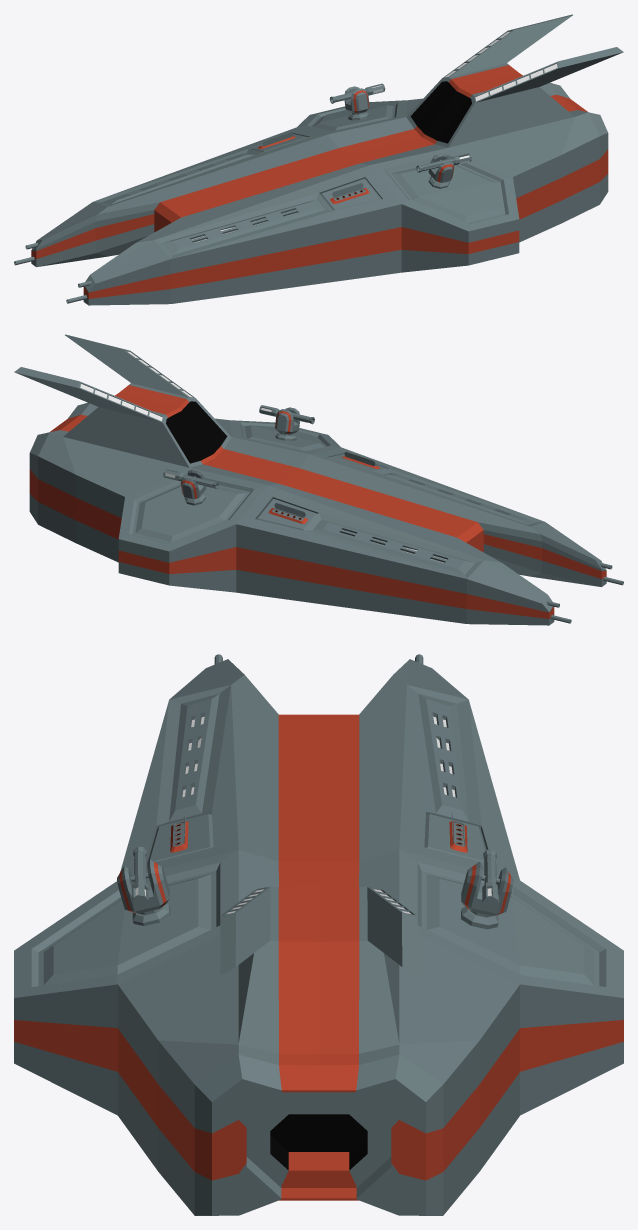
The model's file is Destroyer.fbx.
The picture shows the model from 3 angles, top to bottom: view 1: azimuth 30°, elevation 25°; view 2: azimuth 150°, elevation 25°; view 3: azimuth 270°, elevation 25°; orthographic projection. The views are drawn at different scales.
Visible parts, largest first — view 1: DestroyerHigh, GunTurnRight, GunTurnLeft; view 2: DestroyerHigh, GunTurnLeft, GunTurnRight; view 3: DestroyerHigh, GunTurnRight, GunTurnLeft, RailCanon, RailCanonLeft.
Boxes of the visible parts, left/top/right/bottom form: DestroyerHigh: left=14, top=14, right=623, bottom=305; GunTurnRight: left=344, top=86, right=369, bottom=113; GunTurnLeft: left=428, top=153, right=454, bottom=182; DestroyerHigh: left=14, top=334, right=623, bottom=625; GunTurnLeft: left=275, top=407, right=299, bottom=434; GunTurnRight: left=180, top=470, right=206, bottom=499; DestroyerHigh: left=14, top=654, right=623, bottom=1215; GunTurnRight: left=461, top=862, right=513, bottom=915; GunTurnLeft: left=117, top=859, right=169, bottom=913; RailCanon: left=482, top=849, right=498, bottom=911; RailCanonLeft: left=132, top=846, right=148, bottom=909.
Bounding box in the file's own units: 41.03 × 10.09 × 20.31.
2 materials, 1 textured.
